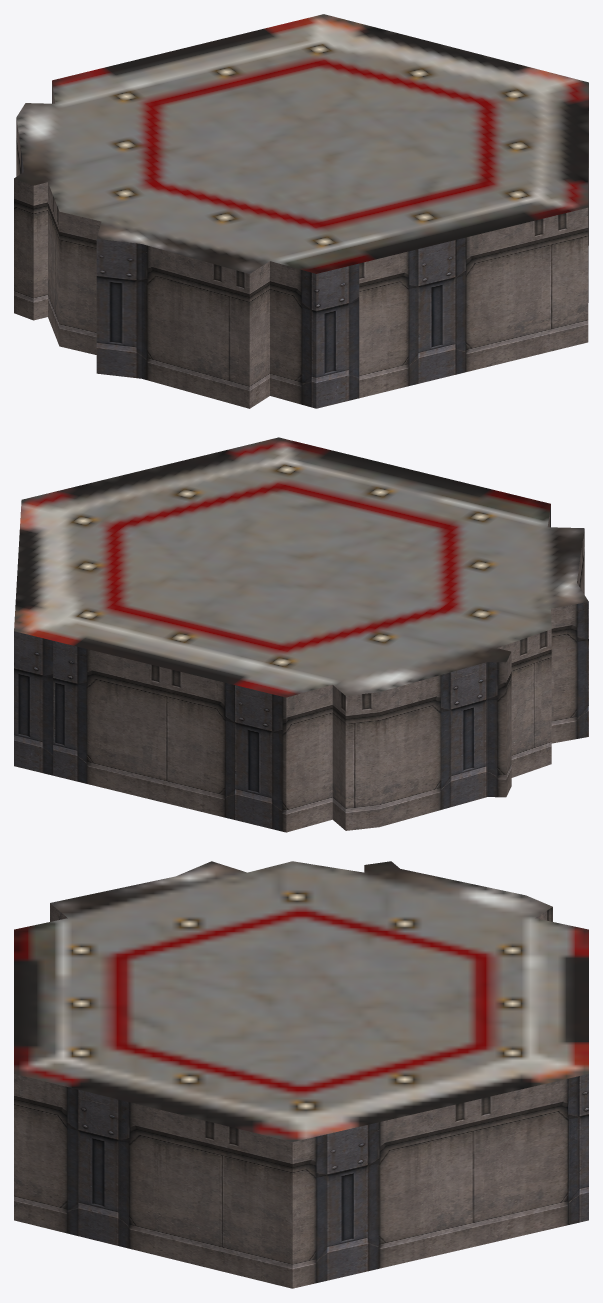
The model's file is bsealed_medium_48.glb.
3 renders of one model, top to bottom at view 1: azimuth 30°, elevation 25°; view 2: azimuth 150°, elevation 25°; view 3: azimuth 270°, elevation 25°, orthographic. The views are drawn at different scales.
Parts seen in each view (by area): view 1: buildings/saxarba/bsealed_medium/bsealed_medium_48; view 2: buildings/saxarba/bsealed_medium/bsealed_medium_48; view 3: buildings/saxarba/bsealed_medium/bsealed_medium_48.
Part boxes in pixels (box(x1,y1,x2,y2)): buildings/saxarba/bsealed_medium/bsealed_medium_48: box(14, 14, 588, 408); buildings/saxarba/bsealed_medium/bsealed_medium_48: box(14, 437, 588, 832); buildings/saxarba/bsealed_medium/bsealed_medium_48: box(14, 861, 588, 1288).
Size of the model in its own units: 74 by 18 by 64.
